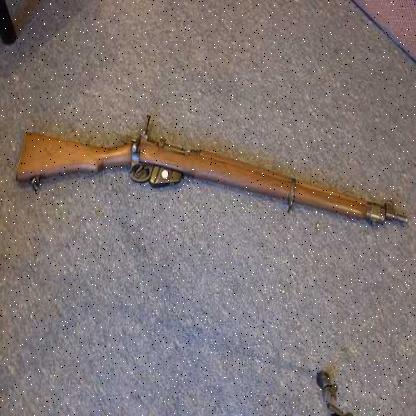rifle: (18, 92, 411, 255)
